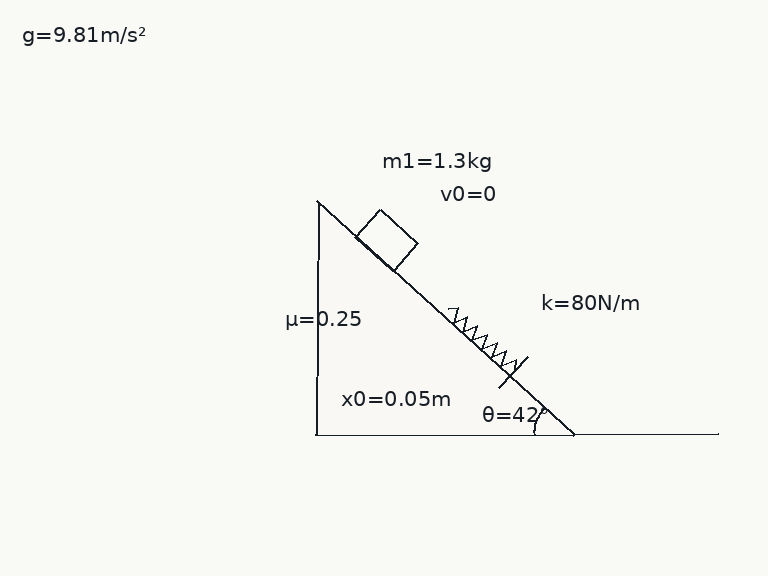block: (353, 207, 420, 273)
ramp: (314, 200, 576, 436)
spring: (447, 306, 518, 371)
